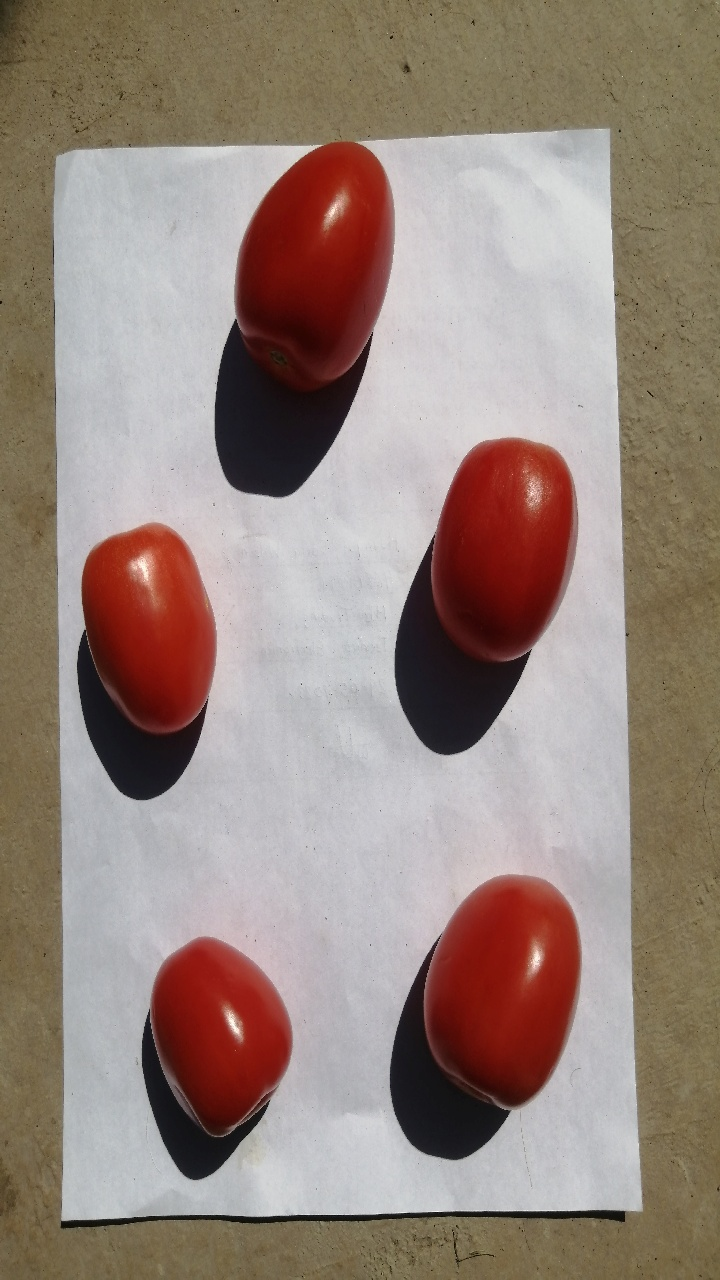tomateRojo: (214, 125, 421, 417), (400, 862, 597, 1134), (389, 431, 594, 679), (115, 915, 312, 1159), (68, 512, 248, 752)
